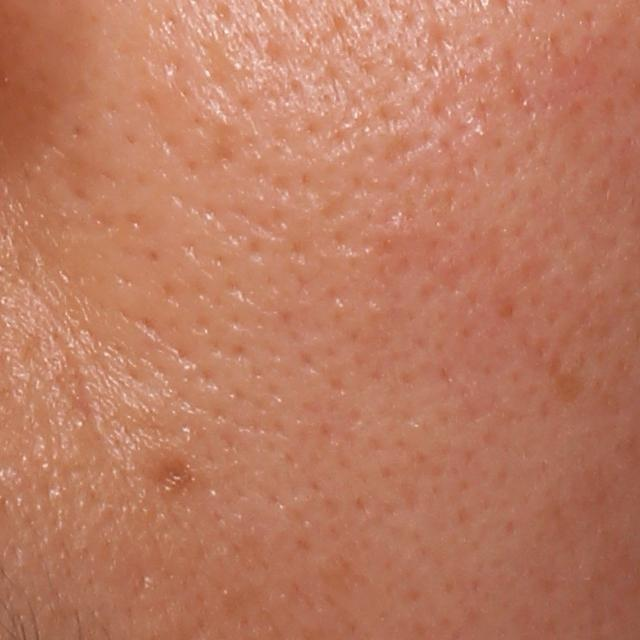nevus: (152, 456, 193, 495)
